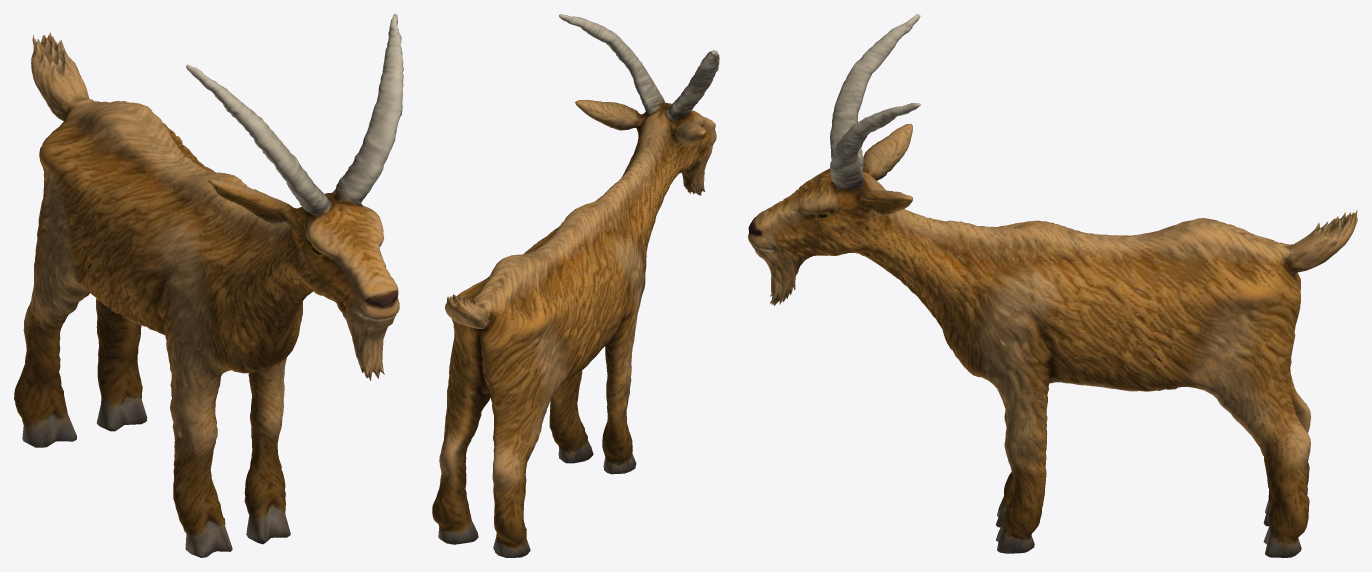
The model's file is MZ4250 - Goat.glb.
The picture shows the model from 3 angles, left to right: view 1: azimuth 30°, elevation 25°; view 2: azimuth 150°, elevation 25°; view 3: azimuth 270°, elevation 25°; orthographic projection. The views are drawn at different scales.
Parts seen in each view (by area): view 1: Gaot.001; view 2: Gaot.001; view 3: Gaot.001.
Part boxes in pixels (x1,y1,x2,y2): Gaot.001: (14, 14, 403, 557); Gaot.001: (432, 14, 719, 557); Gaot.001: (748, 14, 1357, 557).
Bounding box in the file's own units: 0.2727 × 0.6692 × 0.7773.
1 material, 1 textured.
